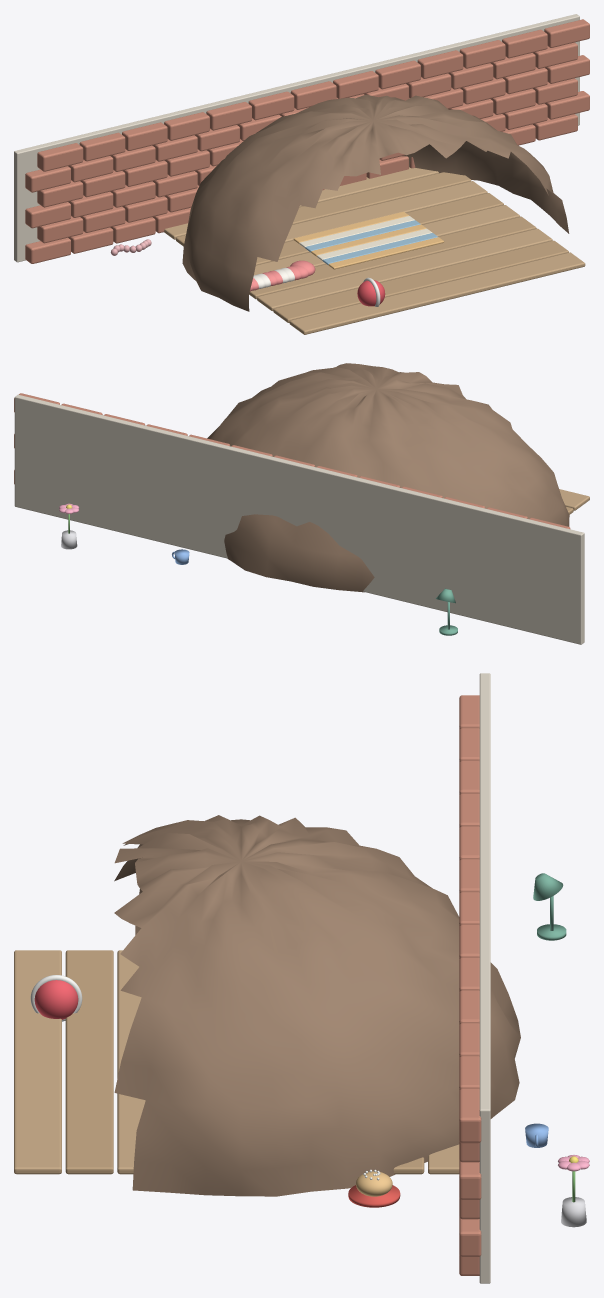
Rendered from home.glb.
3 views of the same model, one above another, from view 1: azimuth 30°, elevation 25°; view 2: azimuth 150°, elevation 25°; view 3: azimuth 270°, elevation 25° (orthographic). The views are drawn at different scales.
Parts seen in each view (by area): view 1: burrow, mortar_wall, plank0, plank2, plank1, plank3, plank6, plank7, plank4, plank5, plank8, b5_-6 (+59 smaller); view 2: mortar_wall, burrow, plank0; view 3: burrow, plank1, plank0, mortar_wall, plank2, ball, b5_6, b1_6, b3_6, plank8.
Boxes of the visible parts, x1,y1,x2,y2 form: burrow: [182, 94, 569, 311]; mortar_wall: [14, 14, 579, 262]; plank0: [289, 252, 585, 334]; plank2: [257, 228, 552, 310]; plank1: [273, 240, 568, 322]; plank3: [249, 216, 536, 299]; plank6: [285, 181, 487, 242]; plank7: [176, 172, 471, 246]; plank4: [254, 205, 520, 275]; plank5: [256, 193, 503, 265]; plank8: [164, 167, 438, 239]; b5_-6: [37, 143, 83, 171]; mortar_wall: [14, 394, 584, 644]; burrow: [207, 363, 569, 592]; plank0: [559, 489, 589, 510]; burrow: [114, 815, 520, 1196]; plank1: [65, 950, 113, 1174]; plank0: [14, 950, 61, 1174]; mortar_wall: [479, 673, 490, 1283]; plank2: [117, 950, 145, 1174]; ball: [34, 980, 78, 1019]; b5_6: [459, 1088, 481, 1143]; b1_6: [459, 1217, 481, 1256]; b3_6: [459, 1160, 481, 1199]; plank8: [428, 1144, 459, 1174].
Size of the model in its own units: 2.82 by 0.6422 by 1.56.
